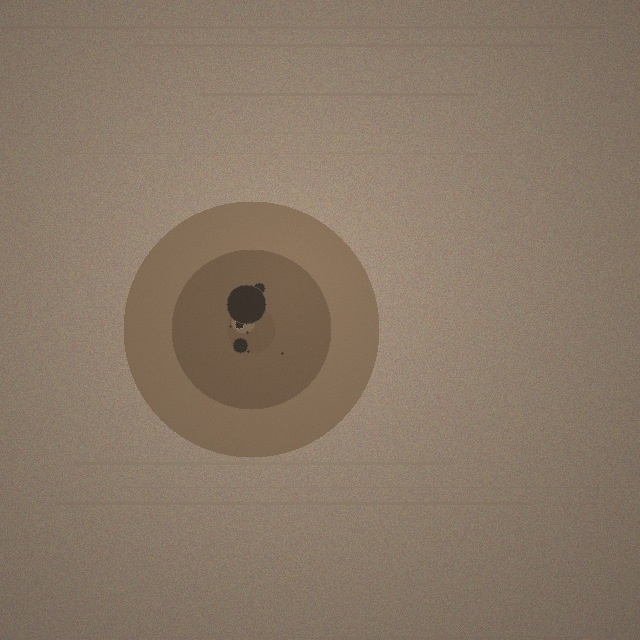shrinkage: (123, 201, 379, 457)
